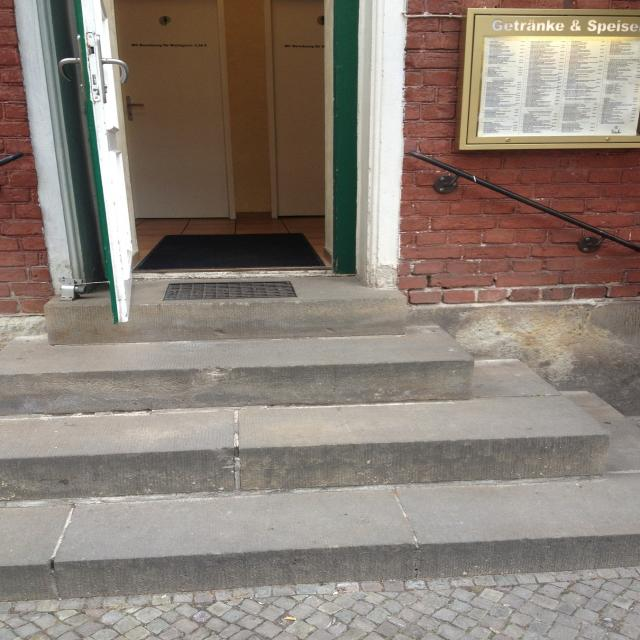AVOID: (2, 296, 639, 604)
